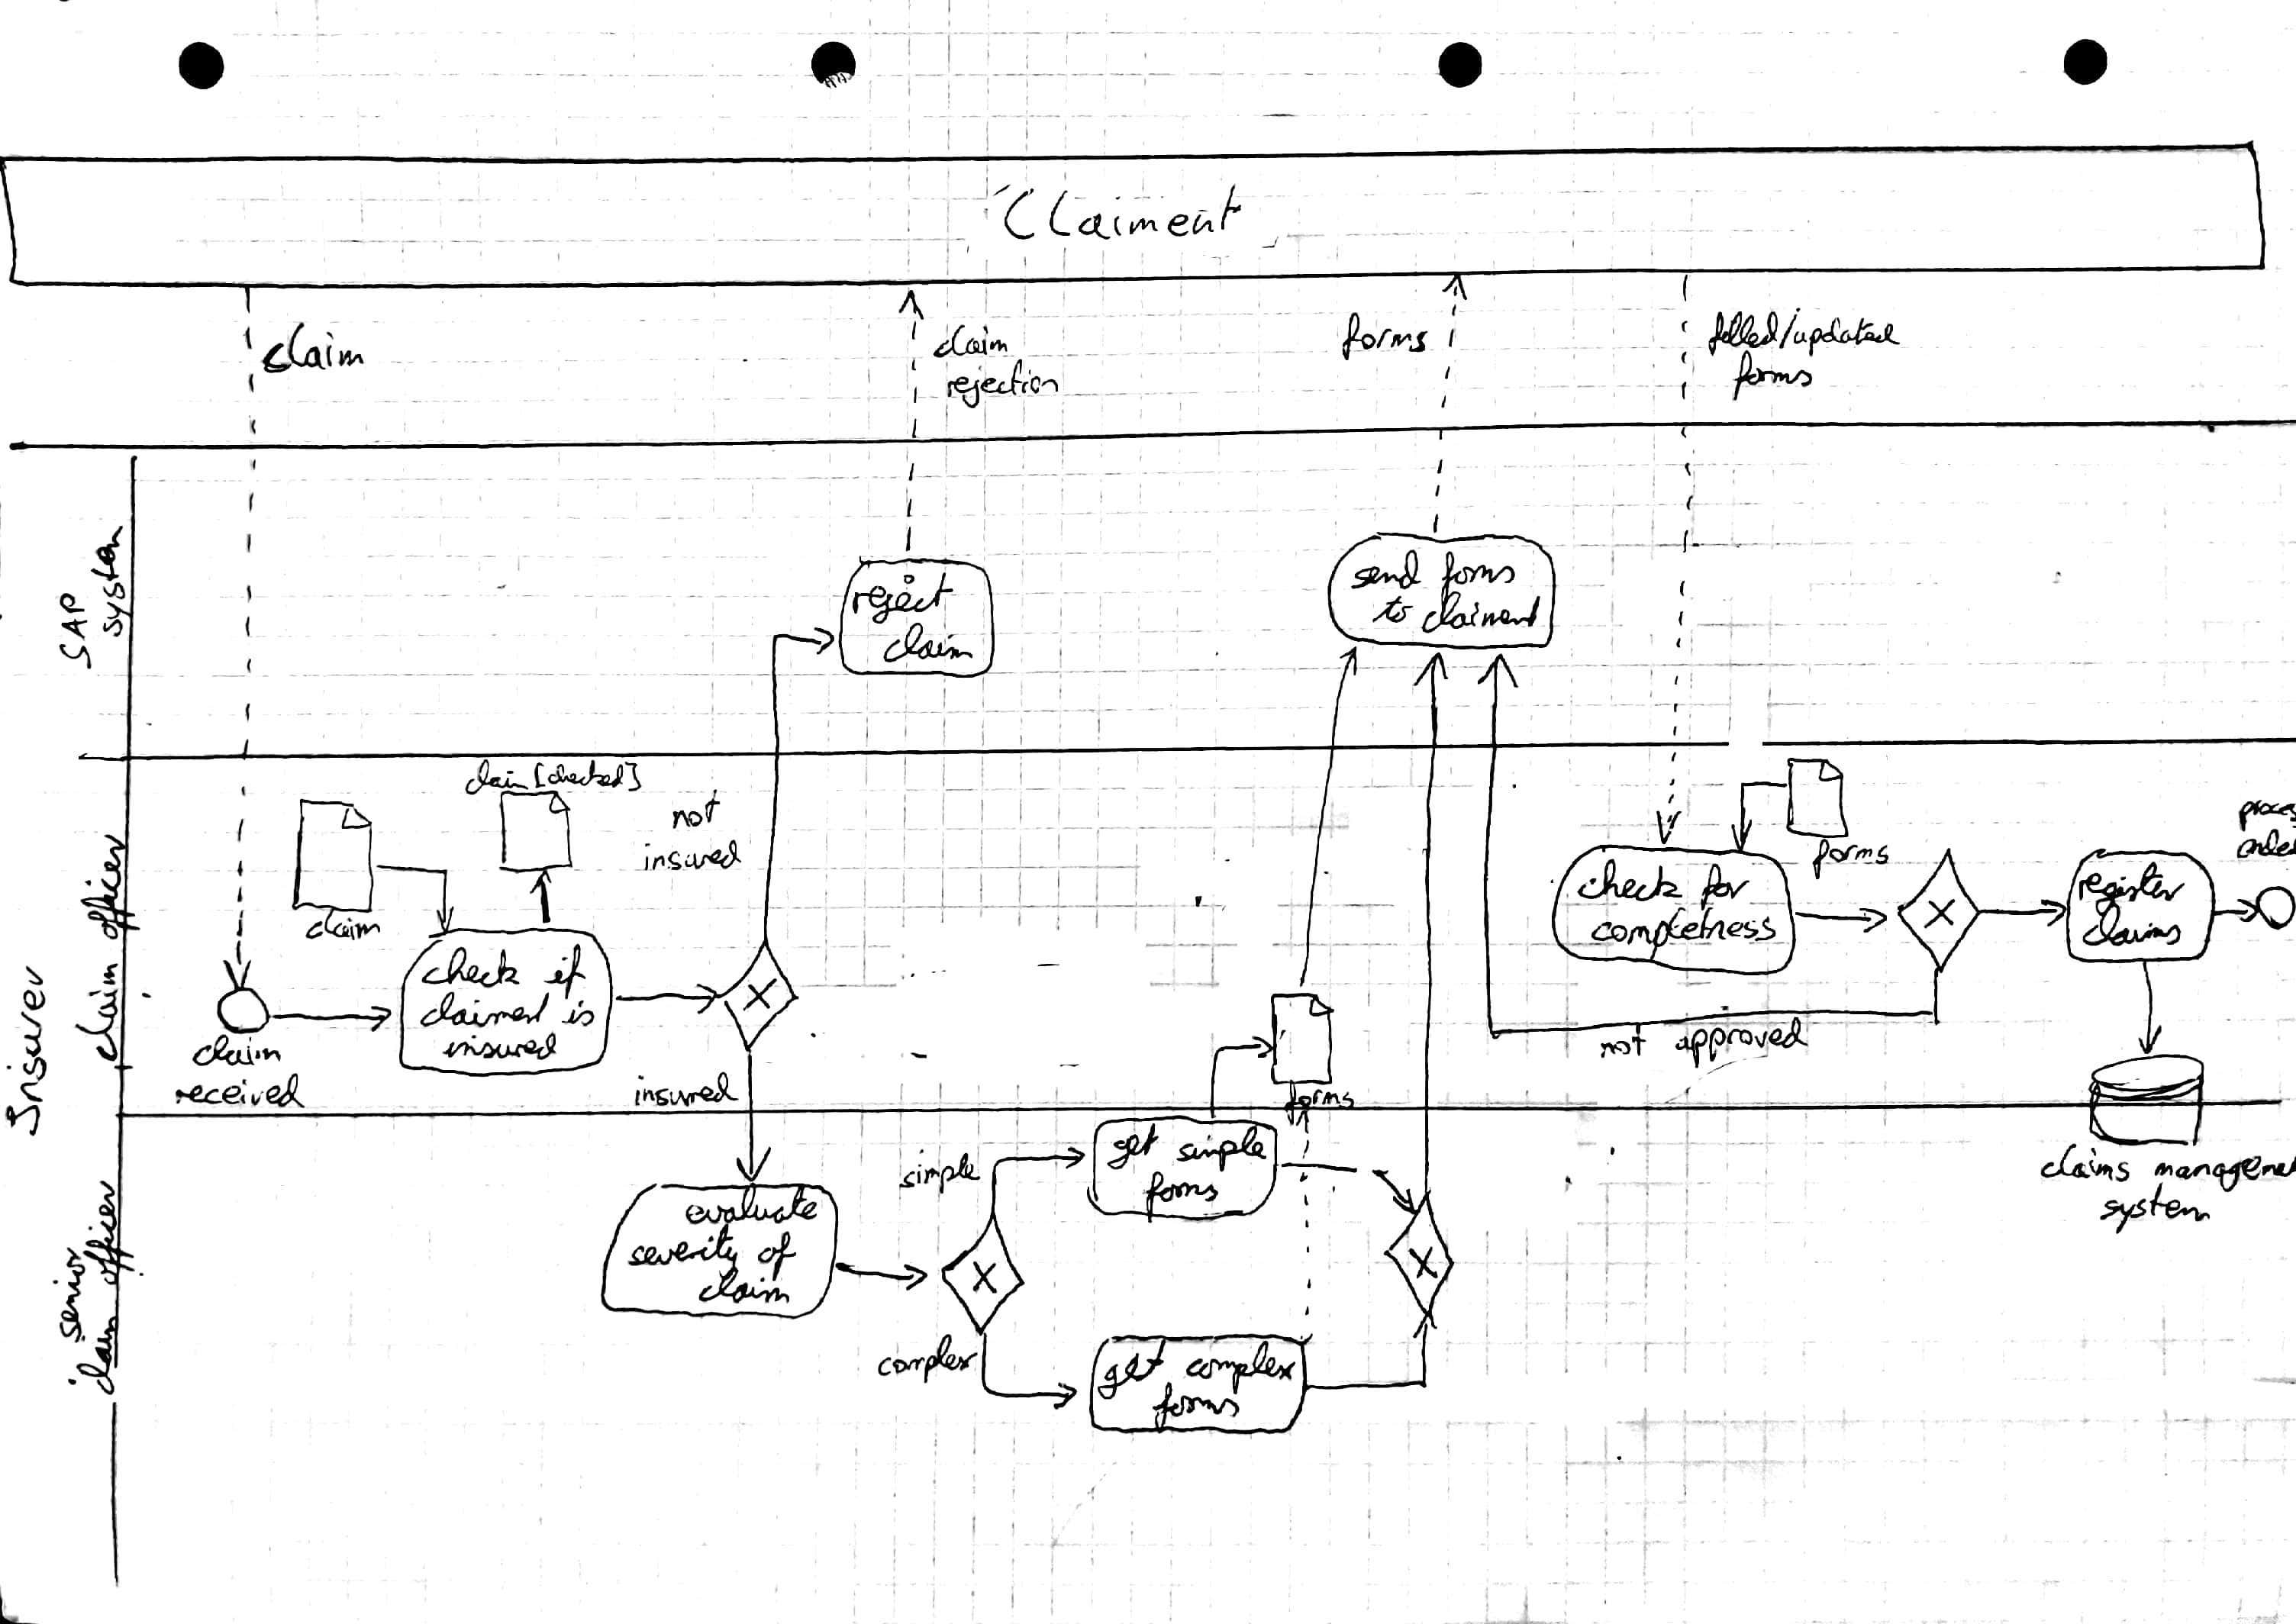Claiment: (992, 176, 1266, 248)
Ended: (2234, 831, 2287, 865)
Insurer: (0, 970, 51, 1134)
SAP: (51, 594, 93, 670)
[checked]: (533, 761, 649, 793)
approved: (1674, 1019, 1814, 1063)
check: (1575, 859, 1686, 909), (420, 949, 524, 990)
claim: (70, 954, 121, 1067), (260, 329, 366, 376), (881, 626, 977, 670), (72, 1311, 116, 1401), (928, 322, 1013, 364), (703, 1272, 793, 1309), (195, 1037, 287, 1070), (306, 910, 381, 944), (468, 761, 524, 794)
claimed: (415, 991, 554, 1028)
claiment: (1415, 592, 1542, 636)
claims: (2082, 907, 2187, 946), (2036, 1148, 2133, 1183)
completness: (1589, 907, 1777, 953)
complex: (1181, 1352, 1297, 1387), (876, 1341, 974, 1381)
evaluate: (689, 1193, 823, 1229)
filled/updated: (1711, 308, 1883, 352)
for: (1693, 861, 1751, 909)
forms: (1338, 311, 1428, 360), (1433, 552, 1519, 596), (1728, 353, 1813, 392), (1150, 1387, 1239, 1422), (1283, 1081, 1357, 1116), (1813, 840, 1890, 874), (1143, 1176, 1222, 1207)
get: (1101, 1346, 1166, 1388), (1108, 1130, 1167, 1169)
if: (545, 946, 594, 991)
insured: (635, 840, 744, 879), (628, 1070, 740, 1107), (445, 1032, 557, 1062)
is: (561, 997, 598, 1030)
management: (2155, 1148, 2294, 1190)
not: (668, 791, 728, 831), (1600, 1026, 1649, 1060)
of: (756, 1234, 795, 1271)
officer: (81, 837, 127, 946), (84, 1176, 118, 1290)
process: (2234, 796, 2292, 830)
received: (171, 1077, 313, 1113)
register: (2074, 870, 2185, 907)
reject: (854, 575, 960, 619)
rejection: (944, 362, 1064, 402)
send: (1350, 552, 1419, 589)
senior: (53, 1243, 86, 1343)
severity: (628, 1232, 744, 1265)
simple: (1171, 1125, 1268, 1167), (895, 1151, 983, 1197)
system: (2096, 1193, 2215, 1236), (91, 529, 130, 638)
to: (1373, 591, 1410, 633)
